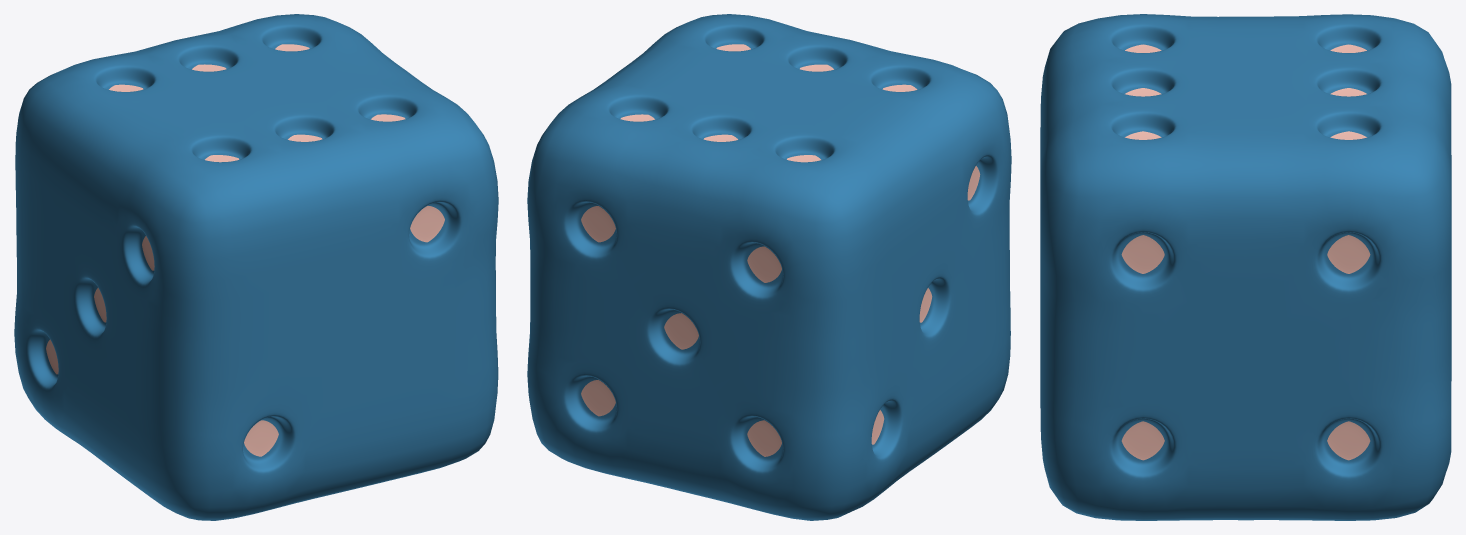
3 renders of one model, left to right at view 1: azimuth 30°, elevation 25°; view 2: azimuth 150°, elevation 25°; view 3: azimuth 270°, elevation 25°, orthographic. The views are drawn at different scales.
Parts seen in each view (by area): view 1: Cube; view 2: Cube; view 3: Cube.
Part boxes in pixels (<box>): Cube: <box>14,14,498,520</box>; Cube: <box>527,14,1011,520</box>; Cube: <box>1040,14,1451,520</box>.
Bounding box in the file's own units: 2 × 2 × 2.
